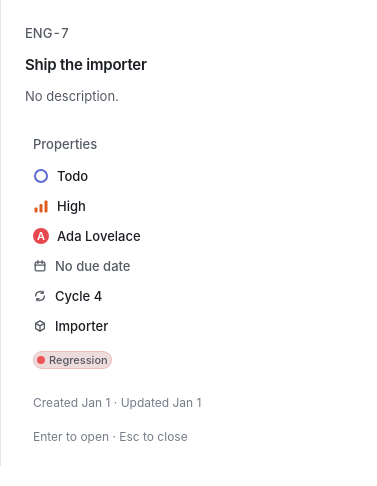
Test: reaching Peek’s menu without a pointer › opens it from the synthesised event a browser sends for Shift+F10
Right-click the element named "Peek ENG-7".
right_click(180, 233)  # box [0,0,360,466]
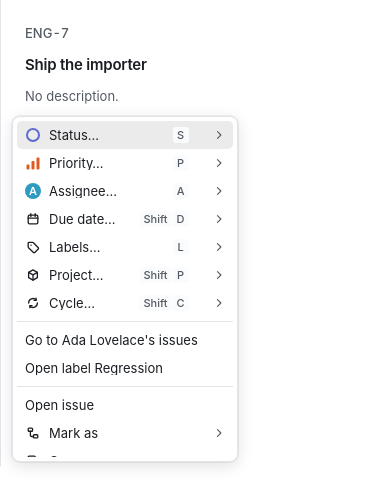
Expected: the menu item "Open label Regression" is shown, [25,360,163,376]
